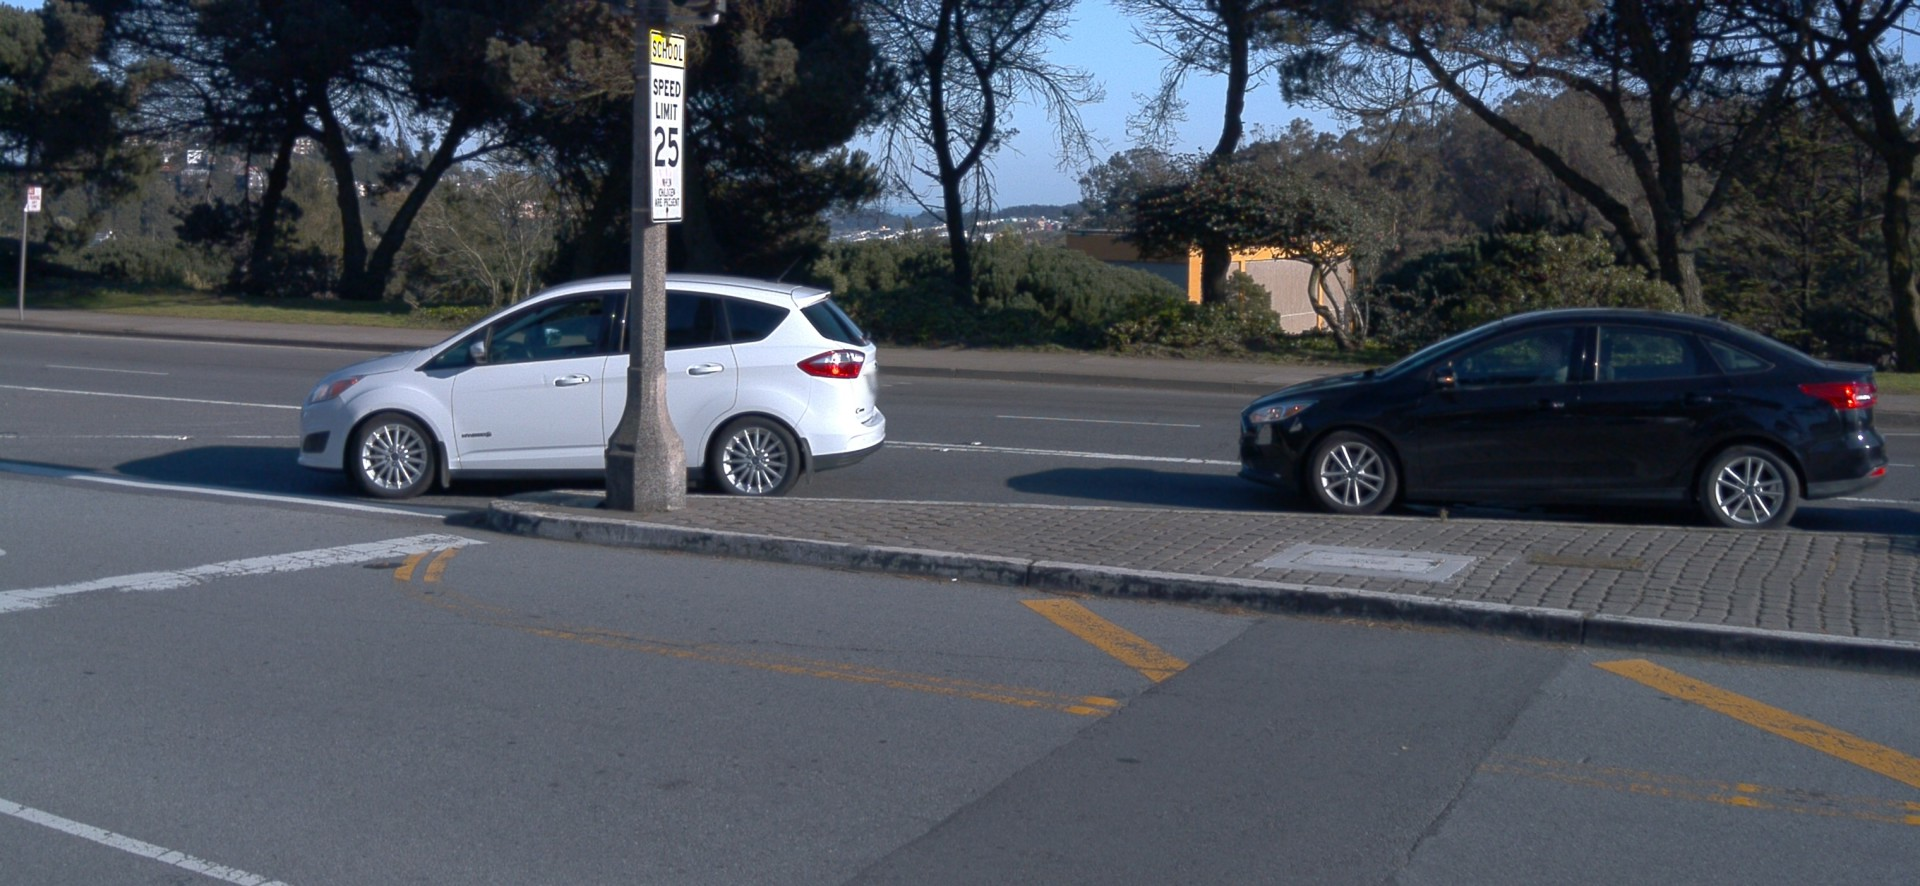TYPE_VEHICLE: (1235, 303, 1890, 532), (294, 269, 891, 504)
